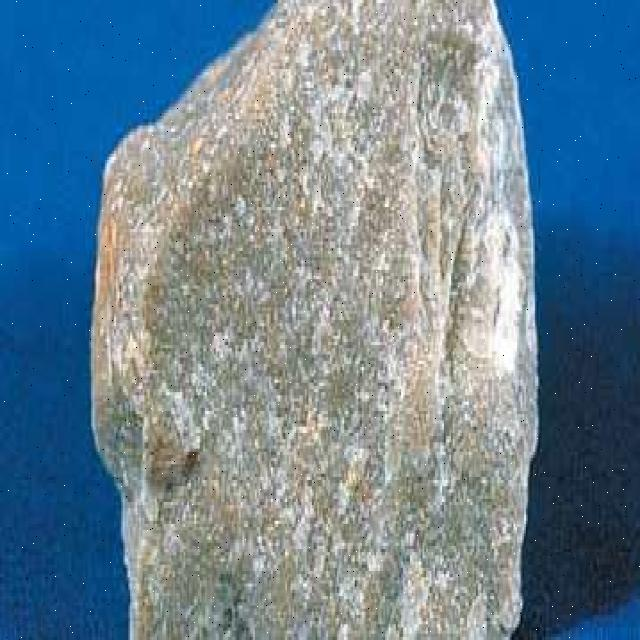Metamorphic: (77, 3, 546, 640)
